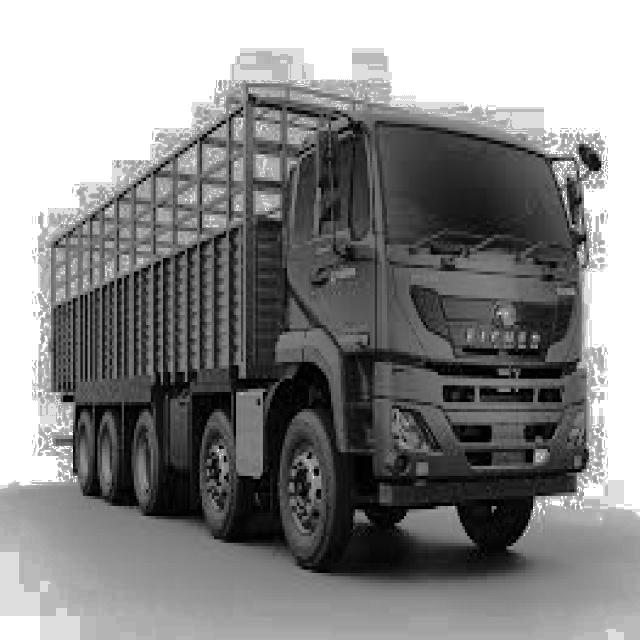HCV: (41, 67, 625, 603)
